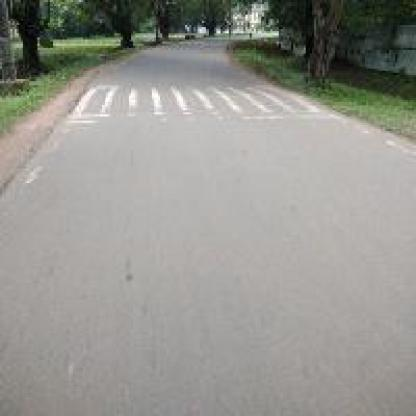Speed Bump: (71, 75, 341, 121)
